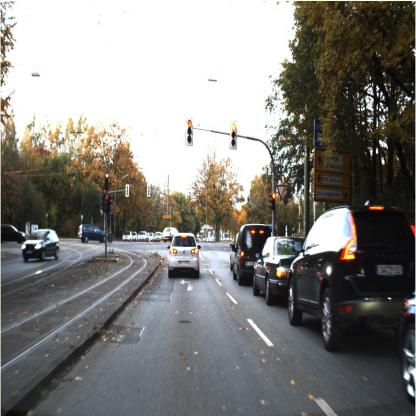Cedeaza Trecerea: (275, 182, 287, 201)
